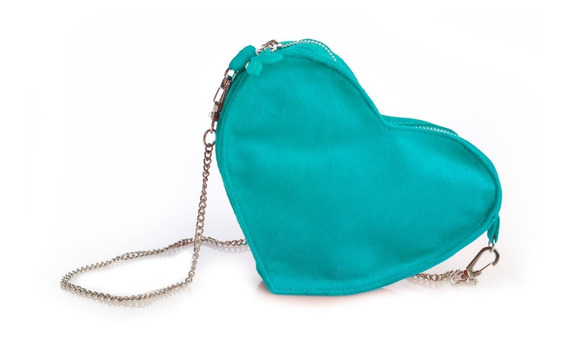cartera: (205, 34, 504, 299)
